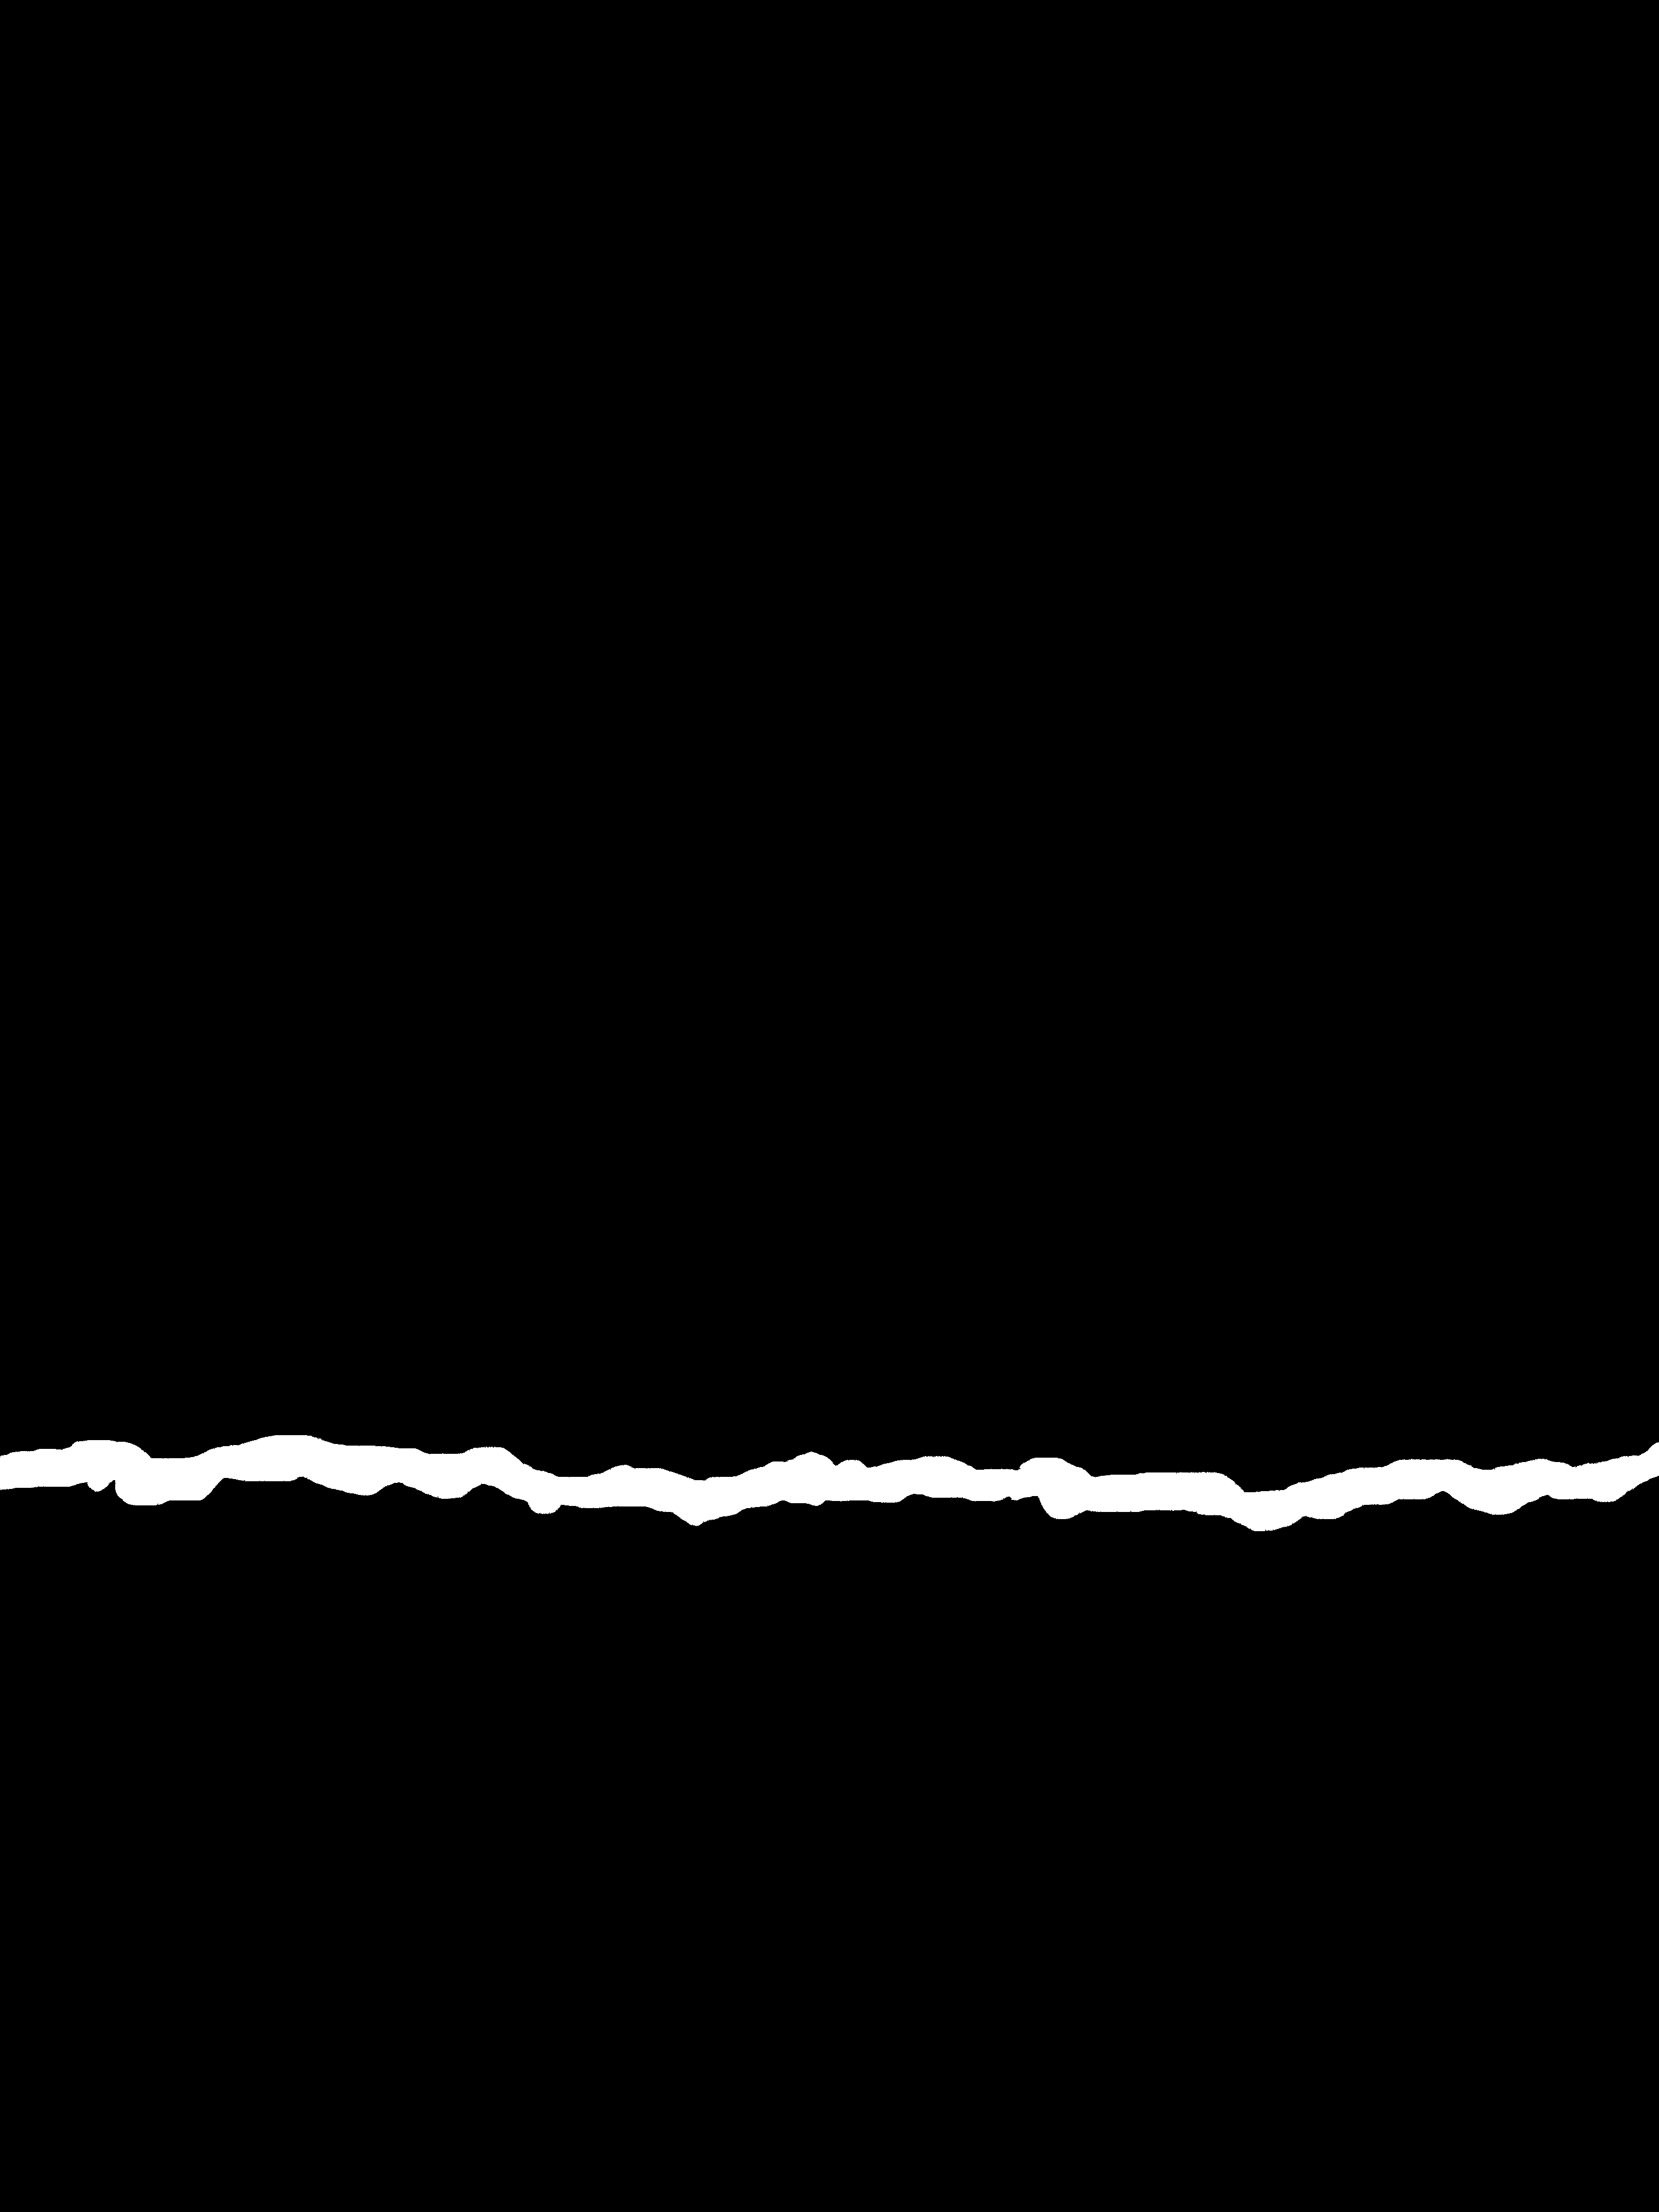Crack: (0, 1416, 1659, 1540)
